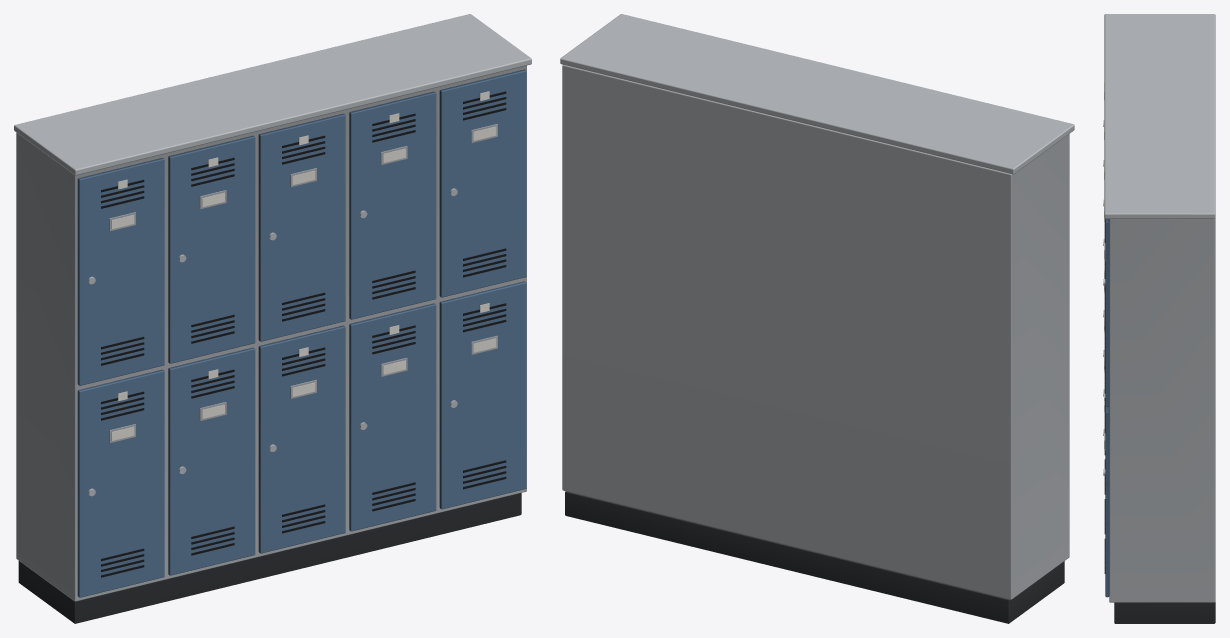
The model's file is lockerRow.glb.
3 renders of one model, left to right at view 1: azimuth 30°, elevation 25°; view 2: azimuth 150°, elevation 25°; view 3: azimuth 270°, elevation 25°, orthographic. The views are drawn at different scales.
Parts seen in each view (by area): view 1: lockers; view 2: lockers; view 3: lockers.
Part boxes in pixels (x1=…): lockers: x1=14, y1=14, x2=531, y2=623; lockers: x1=560, y1=14, x2=1074, y2=623; lockers: x1=1103, y1=14, x2=1215, y2=623.
Size of the model in its own units: 1.92 by 1.85 by 0.454.
